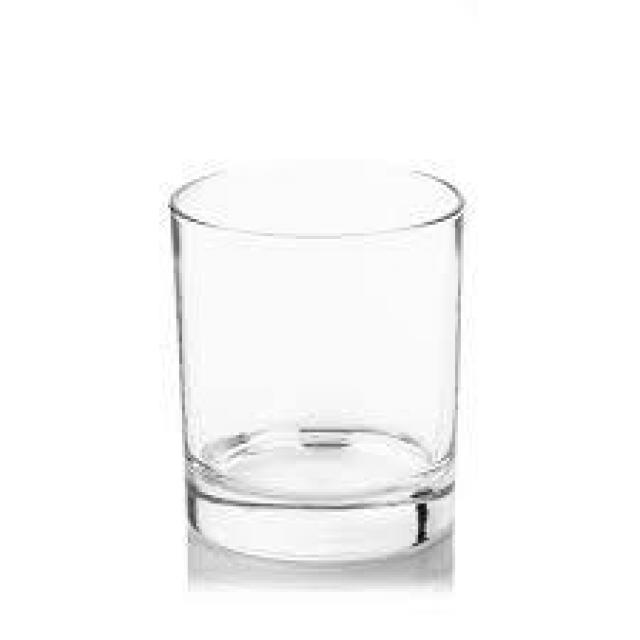non-organic waste: (166, 162, 468, 563)
